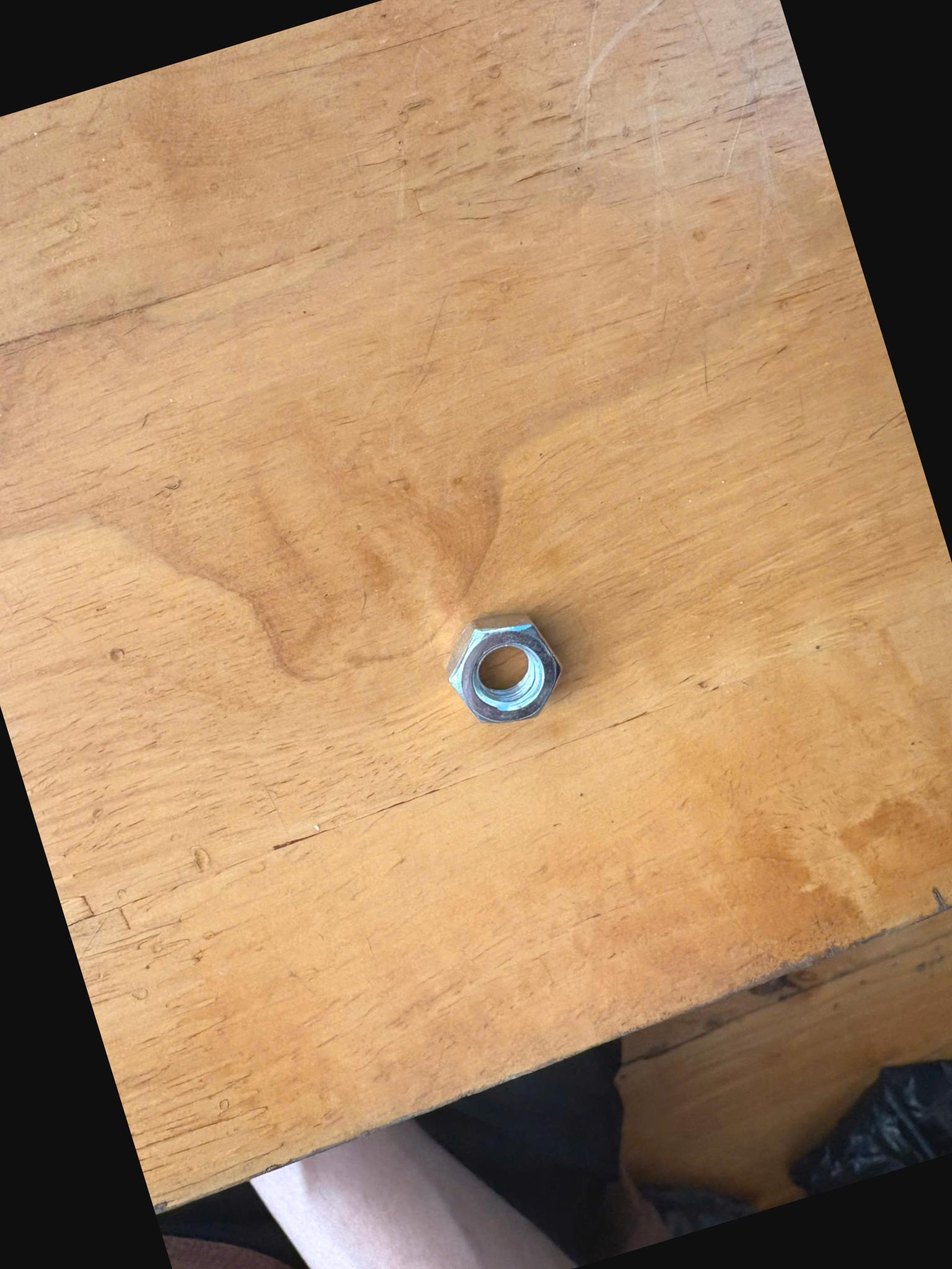nut: (422, 595, 592, 758)
